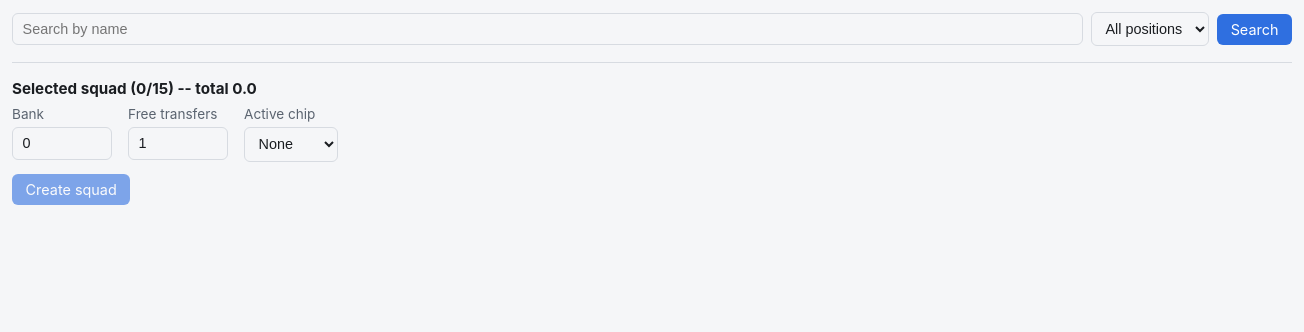
Test: ManualSquadForm › removes a selected player and reduces the total cost
Click the button "Search" at (1254, 29), box [1217, 14, 1292, 45]
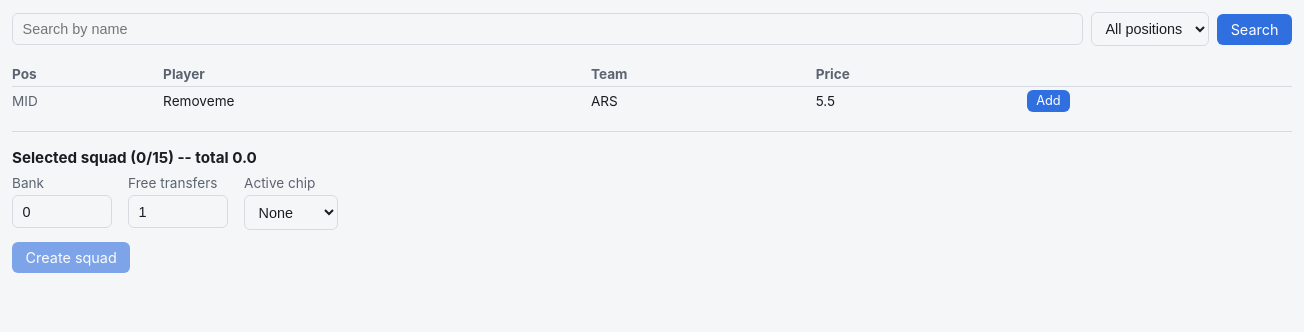
Click the button "Add" at (1048, 101), box [1027, 90, 1070, 112]
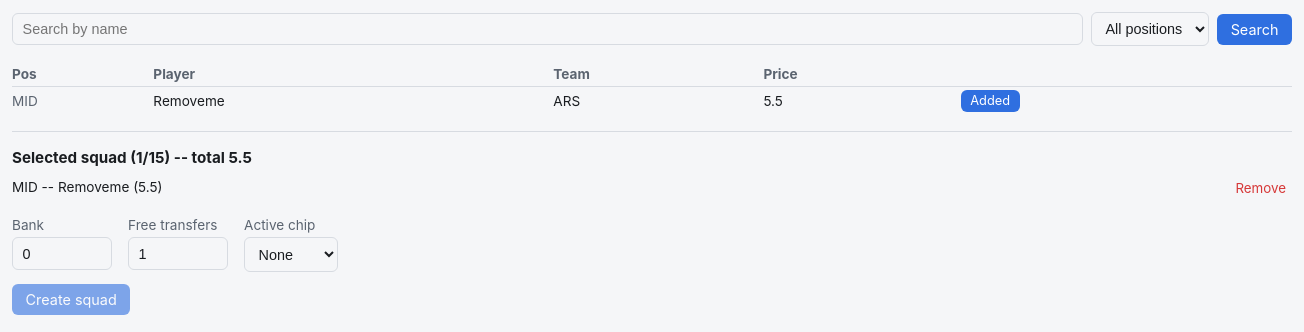
Now the heading "Selected squad (1/15) -- total 5.5" is shown, box [12, 148, 252, 167]
Click the button "Remove" at (1261, 188), box [1229, 179, 1292, 197]
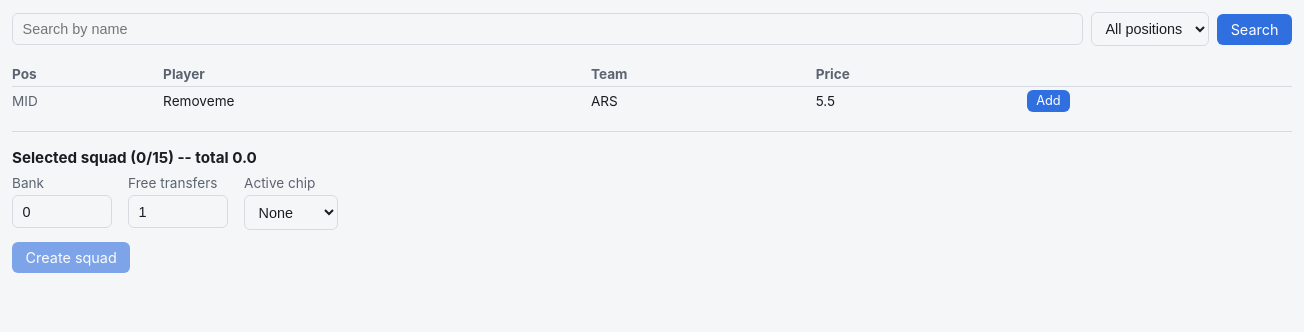
Now the heading "Selected squad (0/15) -- total 0.0" is shown, box [12, 148, 257, 167]
